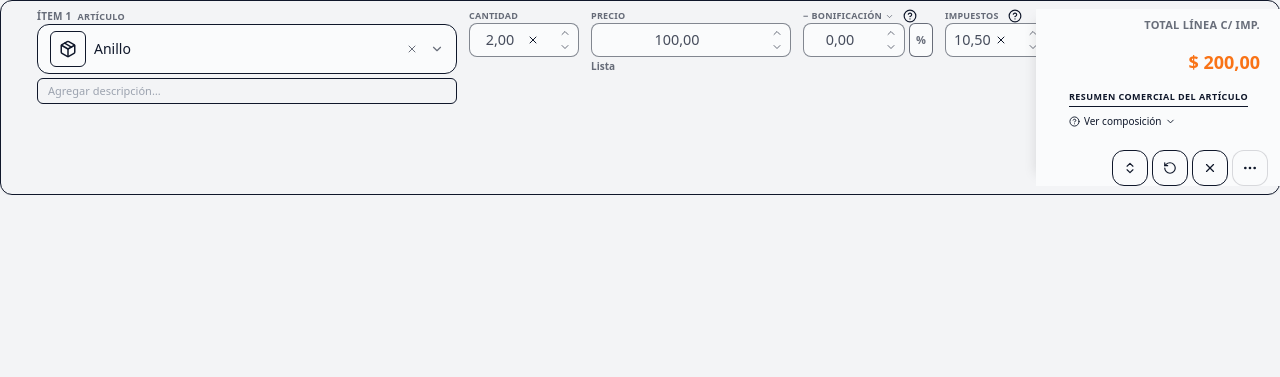
Test: FASE 1 — Resumen Comercial lee lineCommercialSummary › MONETARIO Unificada qty=2: redondeo = unitAdjustment × qty (delta de LÍNEA, no per-unit)
Click the button "Ver composición".
click(1123, 122)  # box [1069,115,1176,128]
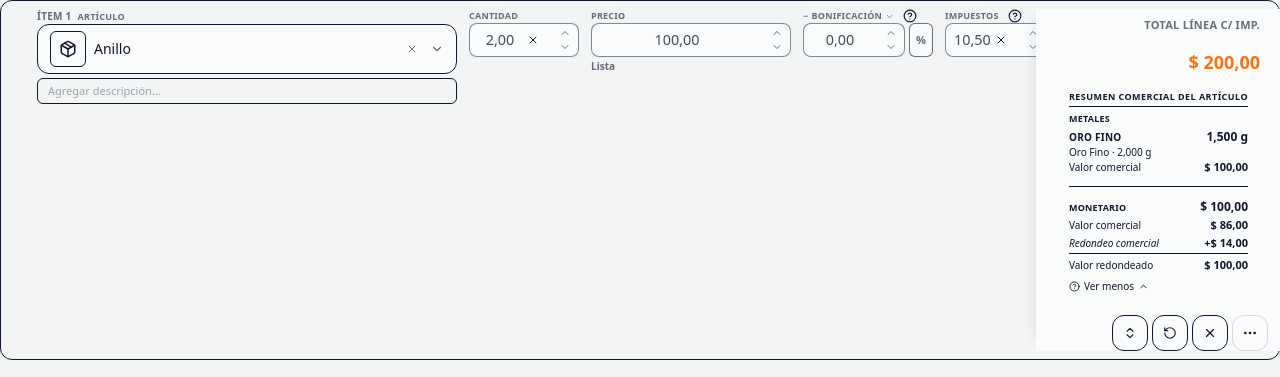
expect the element showing "Redondeo comercial +$ 14,00" is shown: met, box [1069,236,1248,249]
expect the element showing "Valor comercial $ 86,00" is shown: met, box [1069,218,1248,232]
expect the element showing "Valor redondeado $ 100,00" is shown: met, box [1069,253,1248,272]
